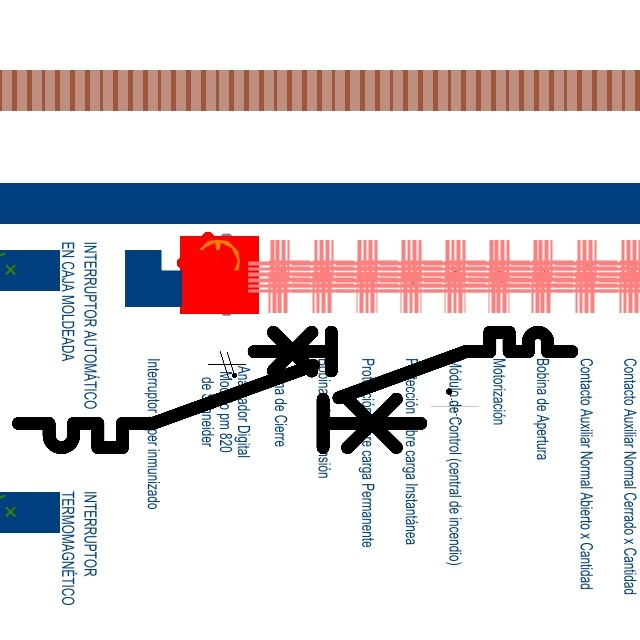interruptor_termomagnetico: (8, 355, 431, 458), (245, 324, 579, 406)
